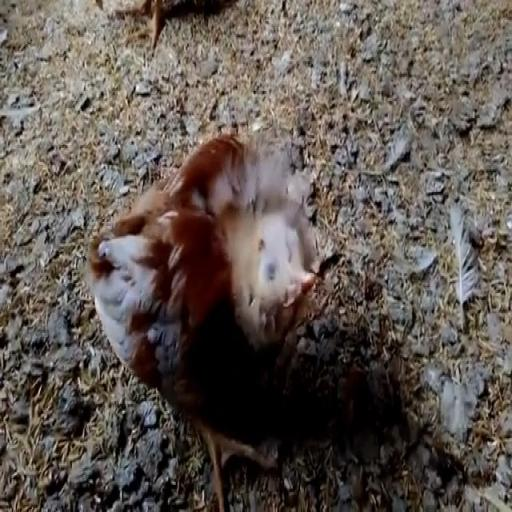disease: (244, 225, 304, 319)
